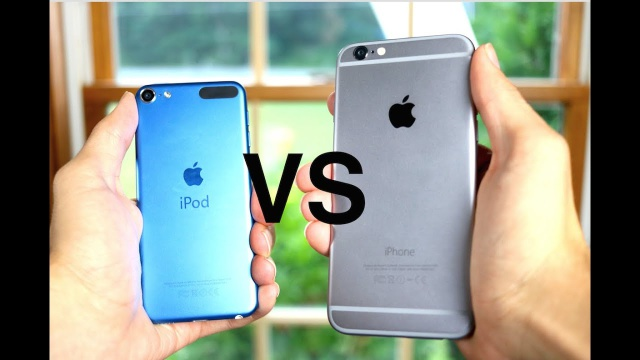apple: (378, 74, 439, 153), (165, 154, 223, 190)
